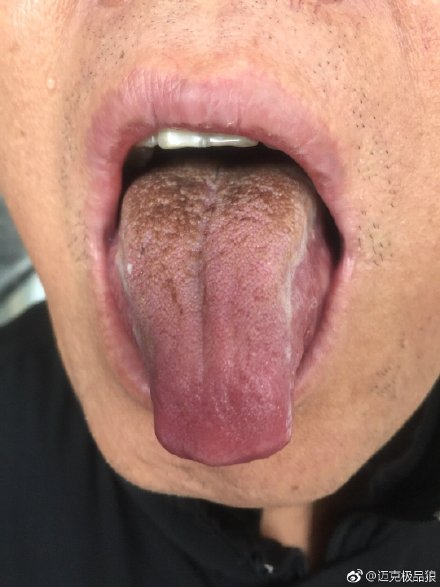heitaishe: (115, 156, 330, 466)
shoushe: (115, 156, 330, 466)
